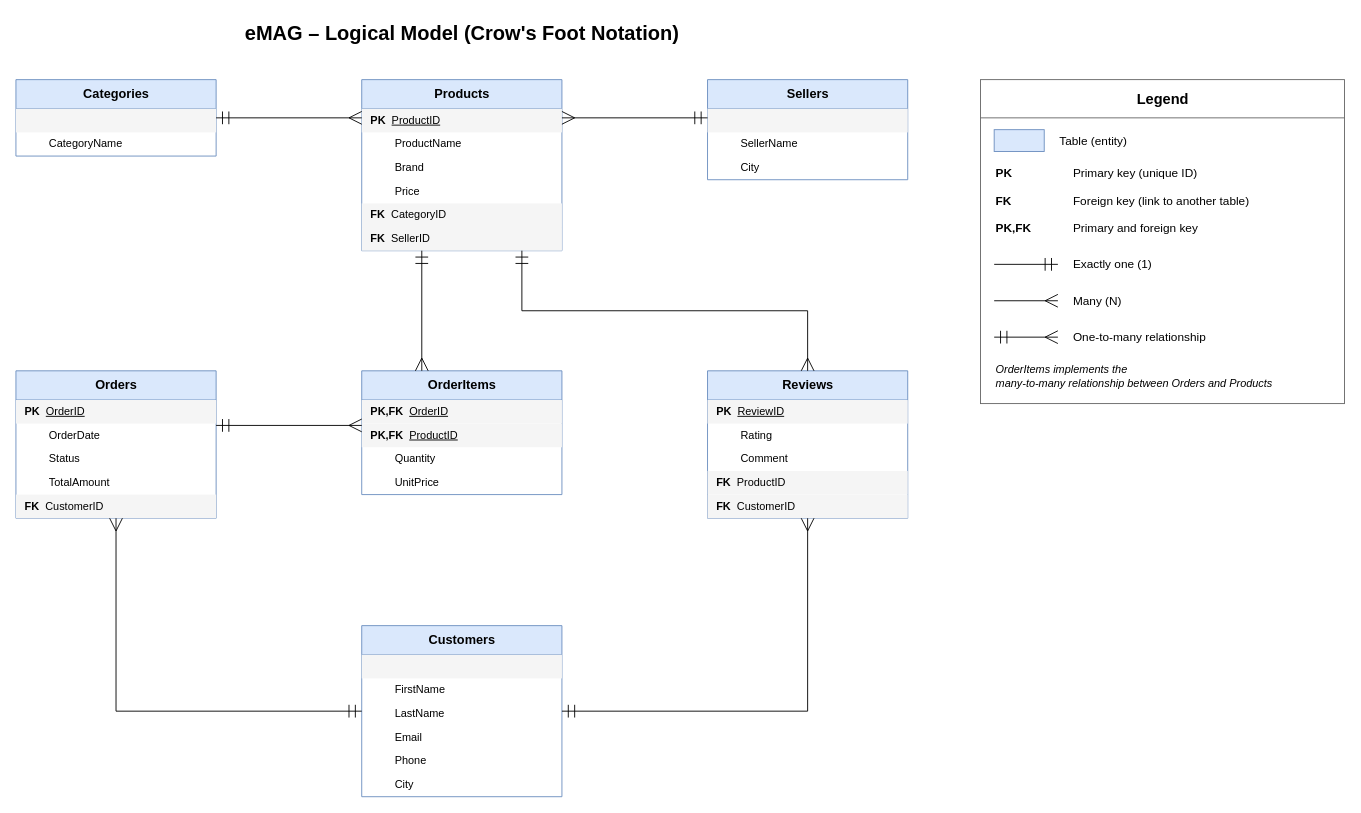
Some shapes in this 1361 by 813 pixel diagram are drawn without their labels. Each missing label, with the centre of its shape:
"PK CategoryID" goes at (115,120).
"PK CustomerID" goes at (461,666).
"PK SellerID" goes at (807,120).
